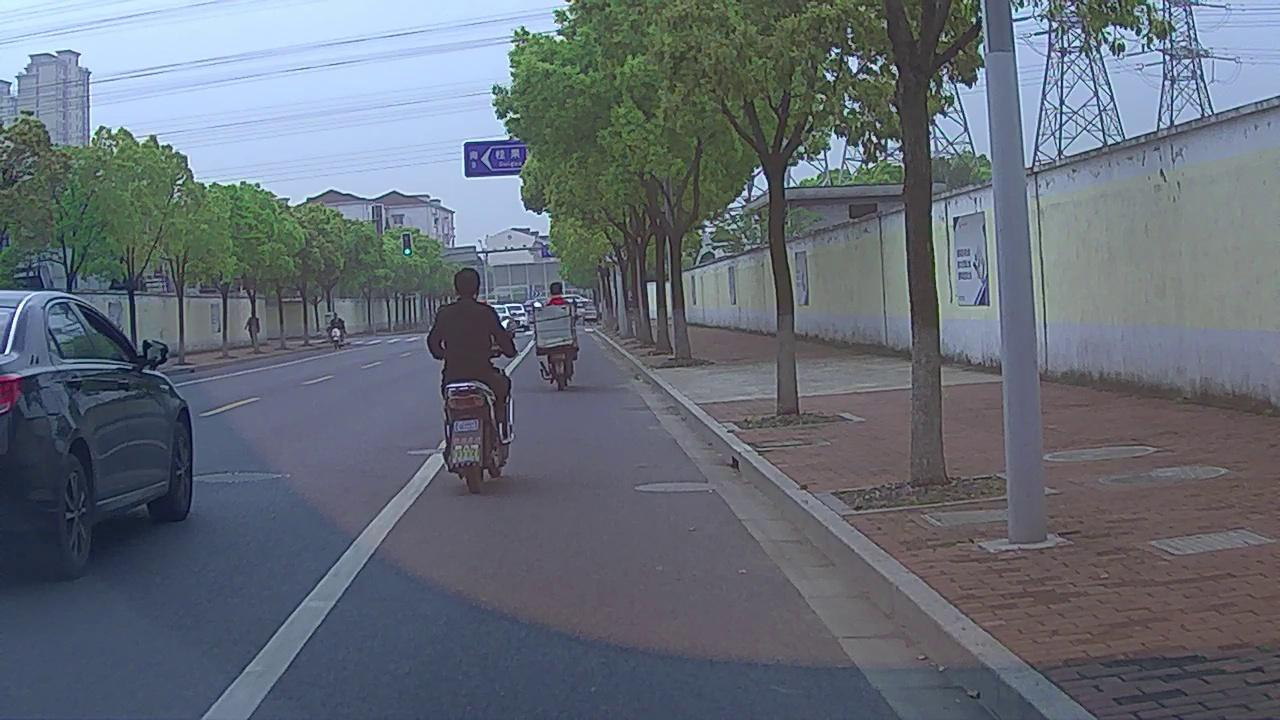traffic_light: (402, 233, 412, 255)
